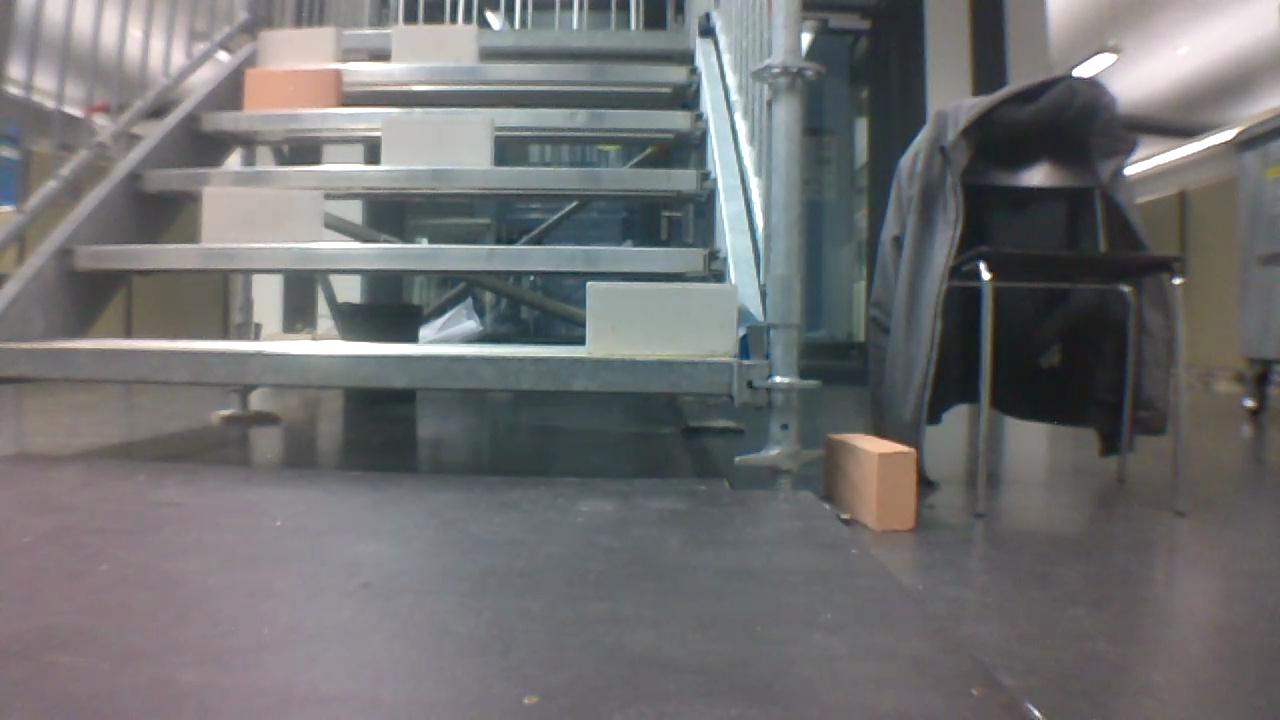brick: (587, 279, 737, 353), (204, 187, 321, 242), (381, 117, 494, 165), (244, 70, 341, 107), (392, 25, 476, 61), (259, 28, 339, 62)
edge: (2, 347, 735, 390), (60, 243, 729, 268), (130, 166, 718, 190), (192, 109, 709, 129), (236, 62, 699, 82), (252, 27, 694, 47)
stairs: (3, 3, 809, 489)
steps: (1, 21, 742, 401)
